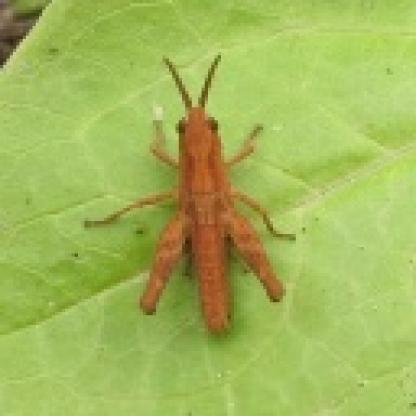grasshopper: (93, 52, 295, 334)
